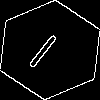I: (25, 25, 67, 70)
